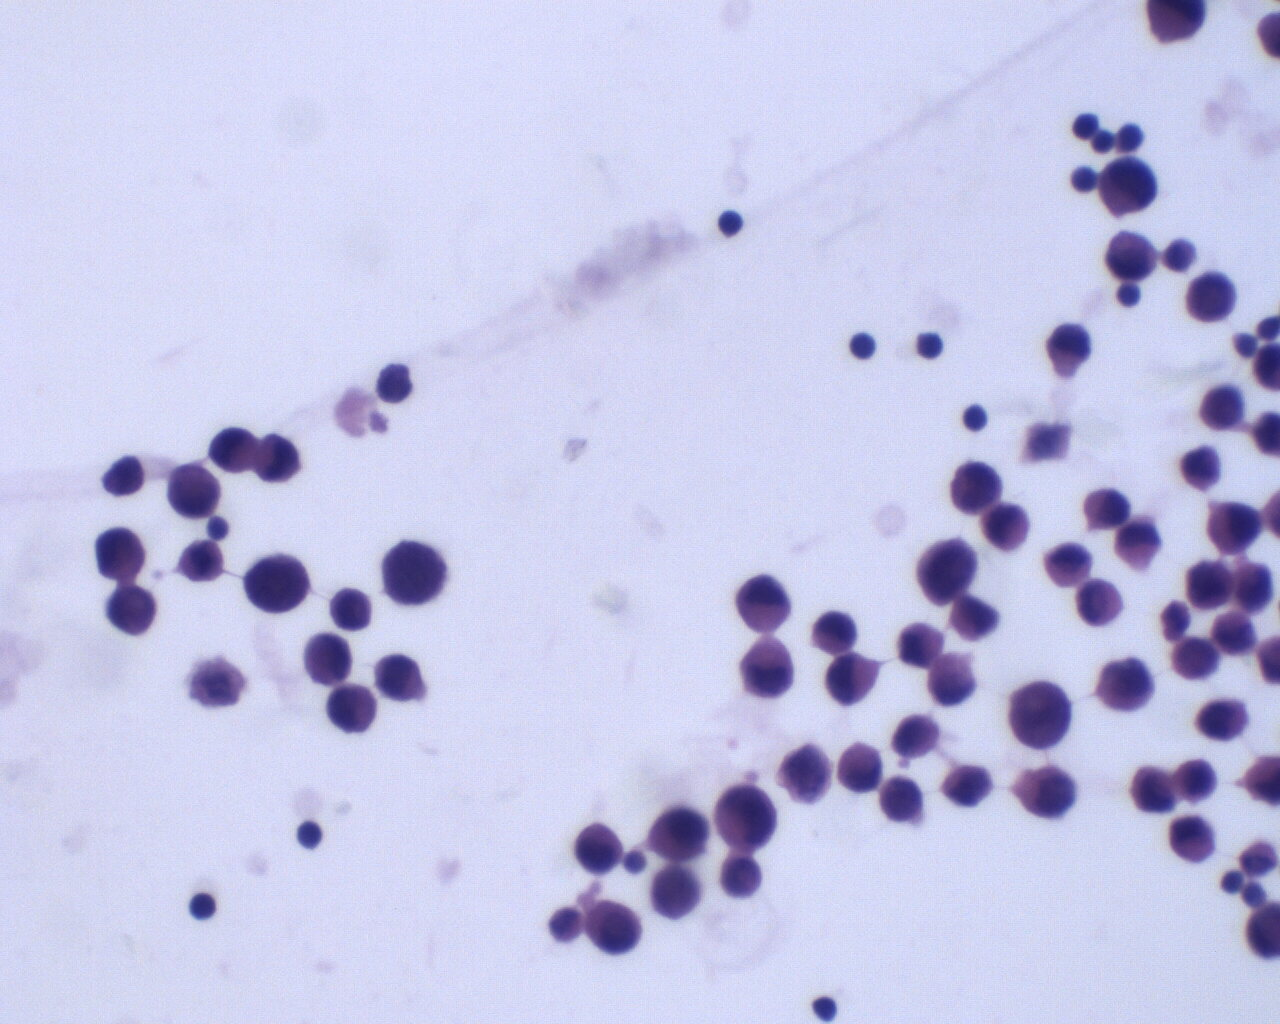ab: (1008, 678, 1078, 754), (379, 535, 448, 610), (239, 549, 315, 612), (714, 783, 781, 854), (916, 536, 980, 609), (778, 738, 836, 813), (1097, 155, 1161, 219), (1096, 651, 1157, 715), (583, 899, 645, 960), (1184, 267, 1246, 329), (1013, 764, 1075, 822), (163, 459, 222, 518), (949, 457, 1004, 517), (95, 523, 147, 586), (573, 817, 626, 877), (1106, 228, 1161, 282), (1196, 380, 1250, 437), (329, 683, 385, 737), (1185, 559, 1238, 613), (876, 775, 929, 827), (327, 584, 378, 636), (1130, 762, 1179, 816), (254, 429, 301, 486), (1196, 694, 1249, 744), (1169, 636, 1224, 684), (939, 761, 994, 808), (376, 651, 423, 704), (1180, 446, 1228, 496), (1083, 487, 1135, 533), (1176, 754, 1218, 802)
lymph: (294, 816, 328, 856), (850, 326, 881, 364), (716, 207, 751, 239), (187, 889, 217, 926), (961, 401, 993, 433)
